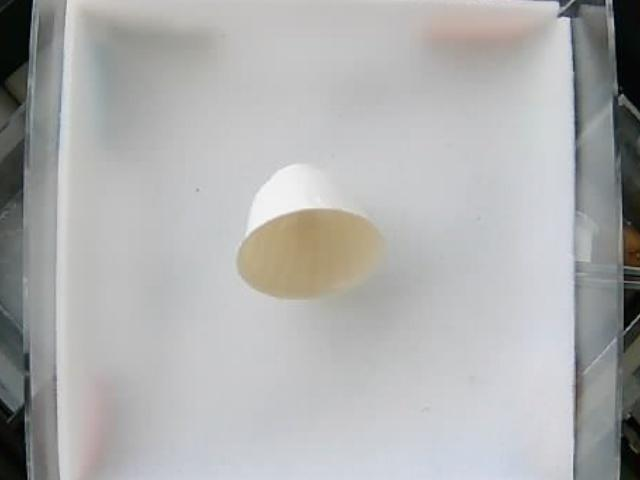Cup: (239, 165, 386, 302)
